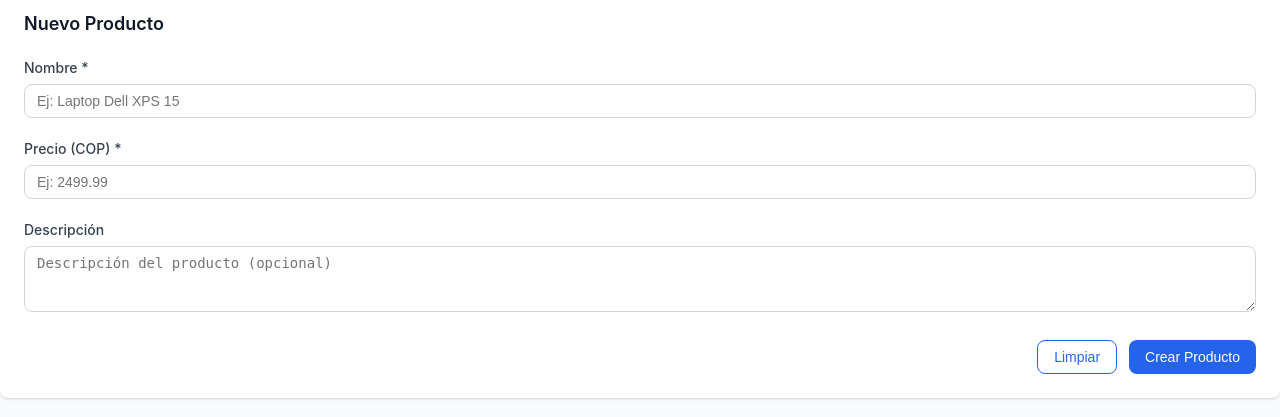
Test case: ProductForm › limpia el formulario al hacer click en Limpiar
This screenshot has width=1280, height=417.
Type "Producto X" into the field with id "nombre".
click(640, 101); type("Producto X")  # box [24,84,1256,118]
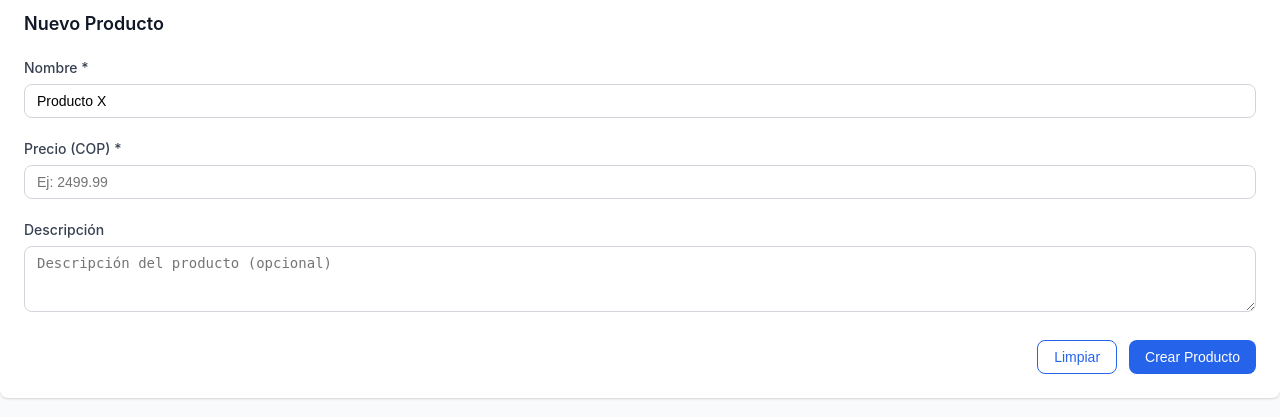
Click the button "Limpiar".
click(1077, 357)  # box [1037,340,1117,374]
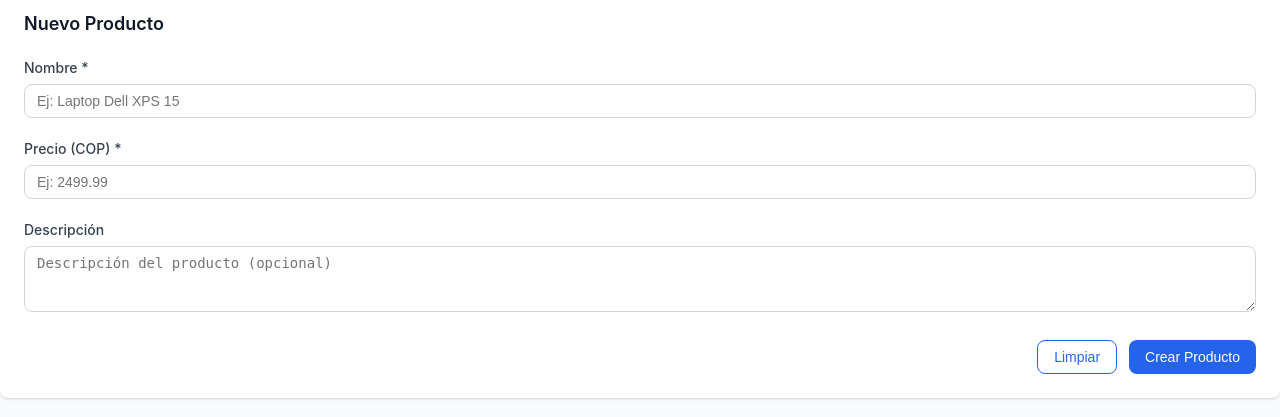
expect the field with id "nombre" is empty: met, box [24,84,1256,118]
